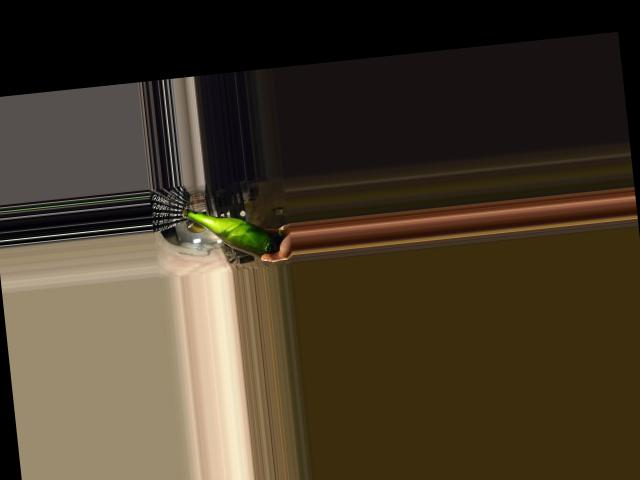beer: (180, 196, 283, 267)
